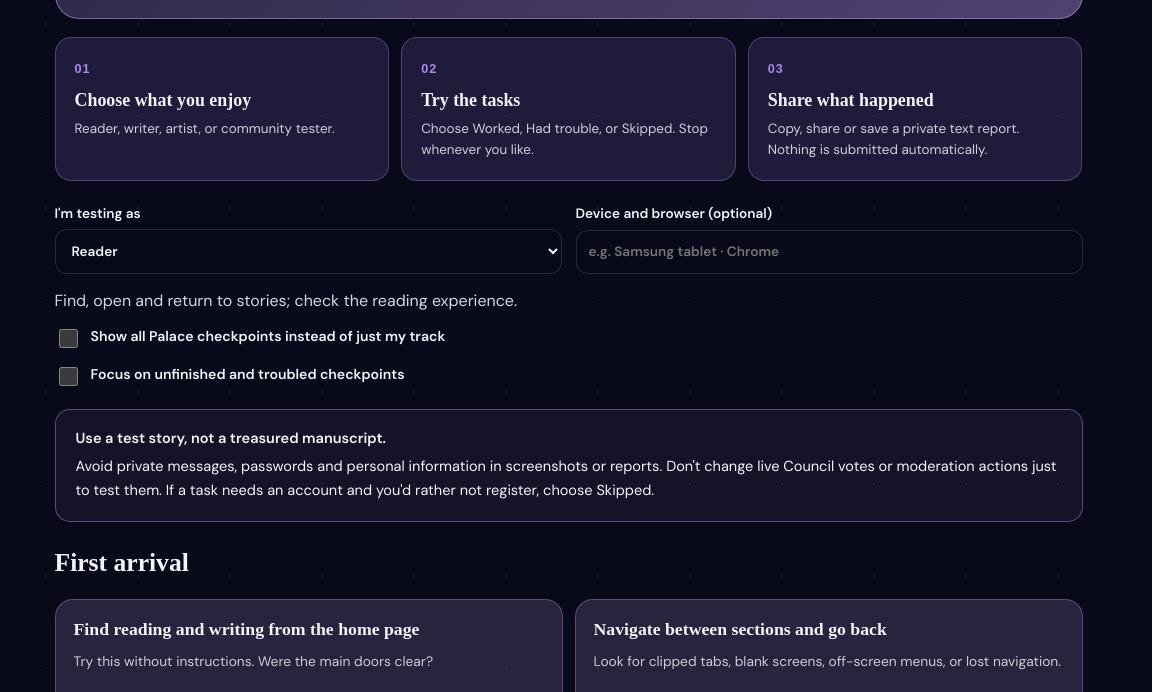
can show the full set on request
(page scrolled)
Click the checkbox labelled "Show all Palace checkpoints instead of just my track": (68, 339) [58,329,78,348]
(page scrolled)
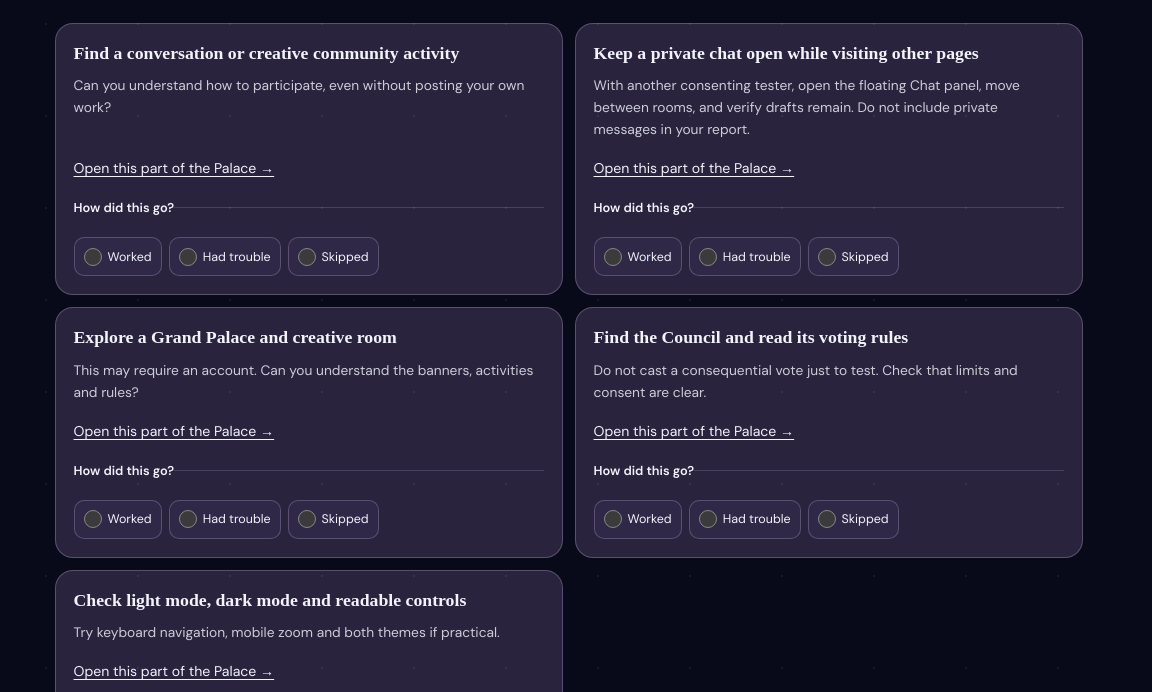
Expected: the text "Find the Council and read its voting rules" is shown, [594,328,908,348]
